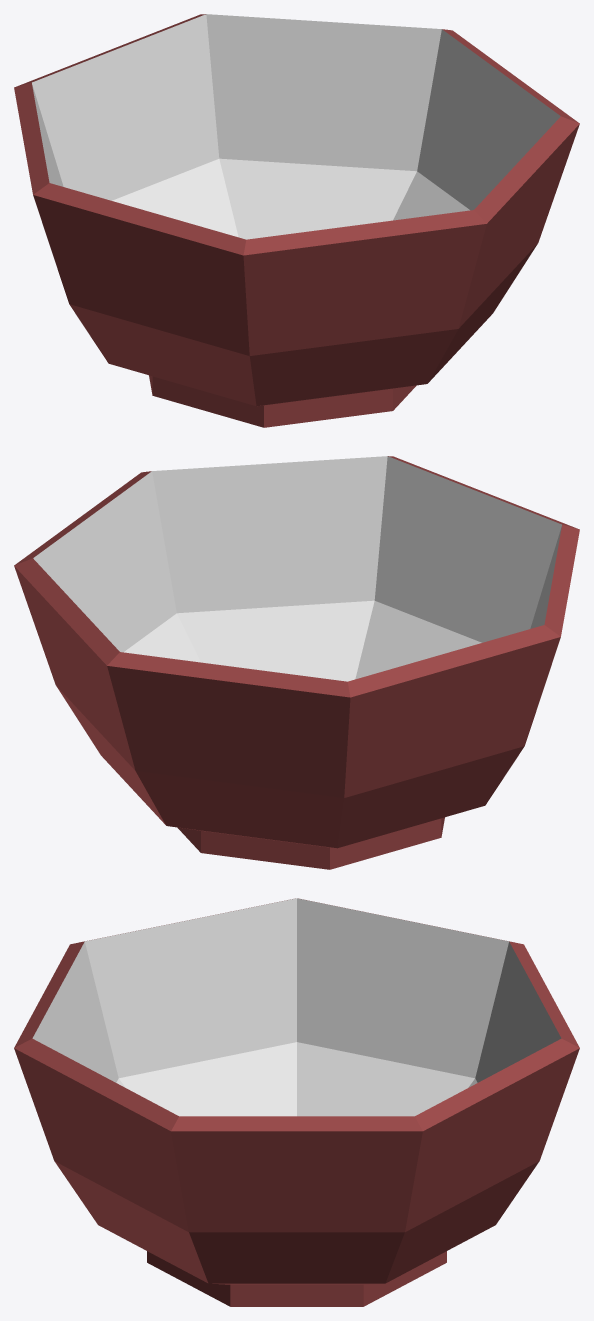
File: Bowl_01_SkF.fbx
3 renders of one model, top to bottom at view 1: azimuth 30°, elevation 25°; view 2: azimuth 150°, elevation 25°; view 3: azimuth 270°, elevation 25°, orthographic.
Parts seen in each view (by area): view 1: Bowl_01; view 2: Bowl_01; view 3: Bowl_01.
Boxes of the visible parts, x1,y1,x2,y2 form: Bowl_01: [14, 14, 579, 427]; Bowl_01: [14, 456, 579, 869]; Bowl_01: [14, 898, 579, 1306].
Size of the model in its own units: 18.72 by 8.81 by 19.2.
Materials: 1 (1 with a texture image).
